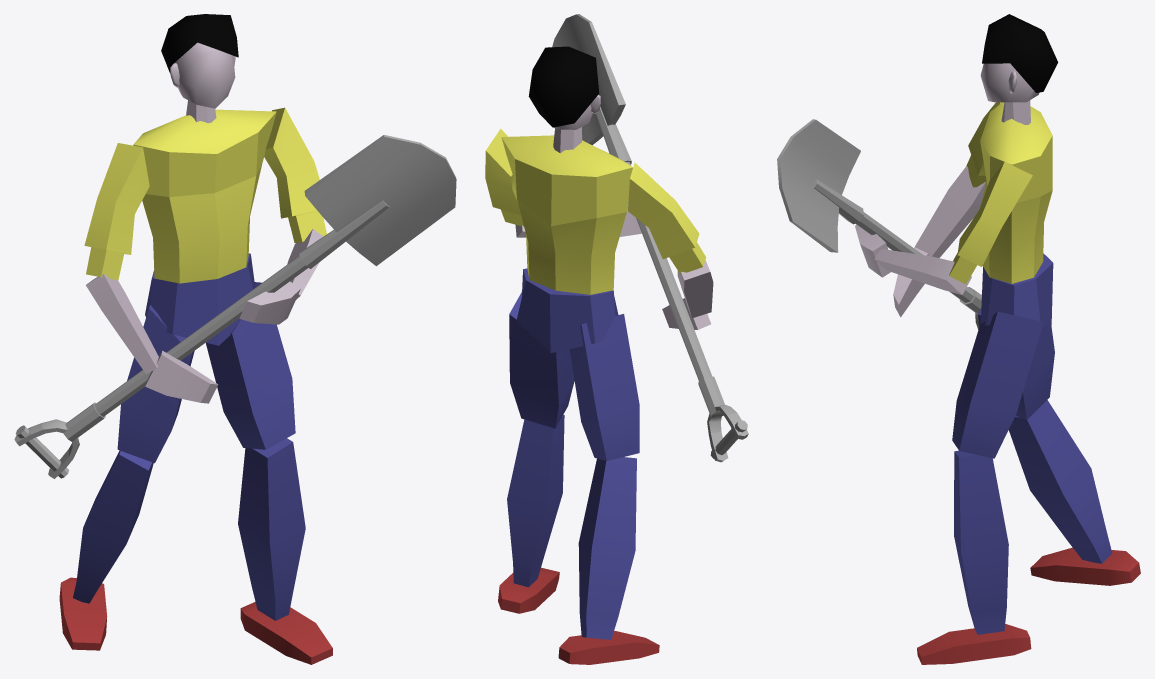
Rendered from heroIdleShovel.fbx.
The picture shows the model from 3 angles, left to right: view 1: azimuth 30°, elevation 25°; view 2: azimuth 150°, elevation 25°; view 3: azimuth 270°, elevation 25°; orthographic projection. The views are drawn at different scales.
Visible parts, largest first — view 1: shovel, torso, E_perna02, E_perna01, D_perna02, D_braço01, pelvis, D_perna01, E_braço01, cebeca, E_pe, D_braço02 (+5 smaller); view 2: torso, D_perna02, shovel, D_perna01, E_perna02, E_perna01, pelvis, cabelo1, D_braço01, D_pe, E_braço01, E_pe (+3 smaller); view 3: shovel, D_perna02, torso, E_perna01, E_perna02, E_braço01, cabelo1, pelvis, E_pe, D_pe, D_braço02, cebeca (+5 smaller).
Part boxes in pixels (x1,y1,x2,y2): shovel: (14,135,456,478); torso: (133,109,276,283); E_perna02: (238,438,305,620); E_perna01: (206,282,295,449); D_perna02: (73,450,153,603); D_braço01: (84,143,149,279); pelvis: (145,253,255,345); D_perna01: (117,305,194,463); E_braço01: (264,107,326,243); cebeca: (170,42,235,123); E_pe: (240,602,332,664); D_braço02: (86,274,158,374); torso: (501,135,632,294); D_perna02: (578,457,636,639); shovel: (552,14,748,462); D_perna01: (569,314,639,460); E_perna02: (507,414,564,587); E_perna01: (509,292,574,428); pelvis: (516,268,618,353); cabelo1: (528,46,599,127); D_braço01: (628,162,706,274); D_pe: (558,631,659,664); E_braço01: (485,128,523,226); E_pe: (498,567,559,613); shovel: (777,119,981,329); D_perna02: (1009,400,1112,563); torso: (980,102,1052,283); E_perna01: (952,311,1043,458); E_perna02: (954,450,1008,634); E_braço01: (949,161,1032,284); cabelo1: (982,14,1058,92); pelvis: (980,253,1053,325); E_pe: (917,624,1031,664); D_pe: (1030,547,1140,585); D_braço02: (915,166,986,257); cebeca: (980,63,1039,124).
Bounding box in the file's own units: 26.55 × 48.46 × 26.21.
